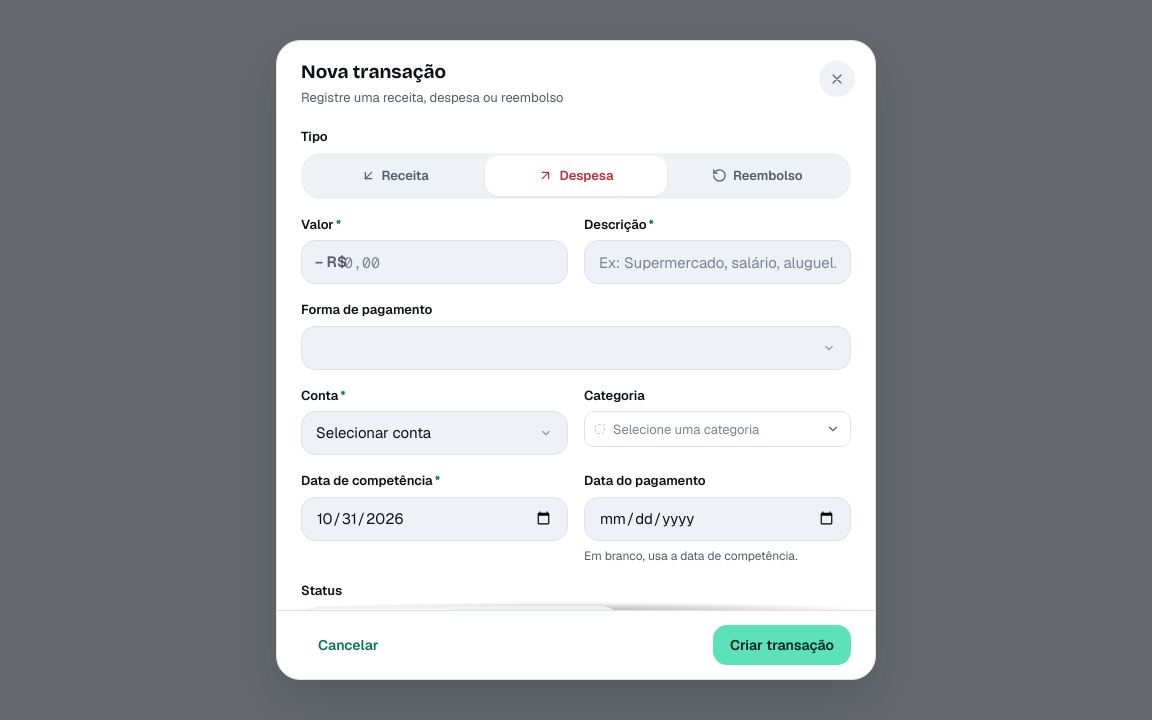
Test case: CreateTransactionDialog — padrões e validação › data futura sugere Pendente e esconde a data do pagamento
The width and height of the screenshot is (1152, 720).
Expected: the dropdown named "forma de pagamento" is enabled, [301,326,851,370]
Type "2099-01-10" into the date field labelled "Data de competência*". click: (434, 519)
box: [301,497,568,541]
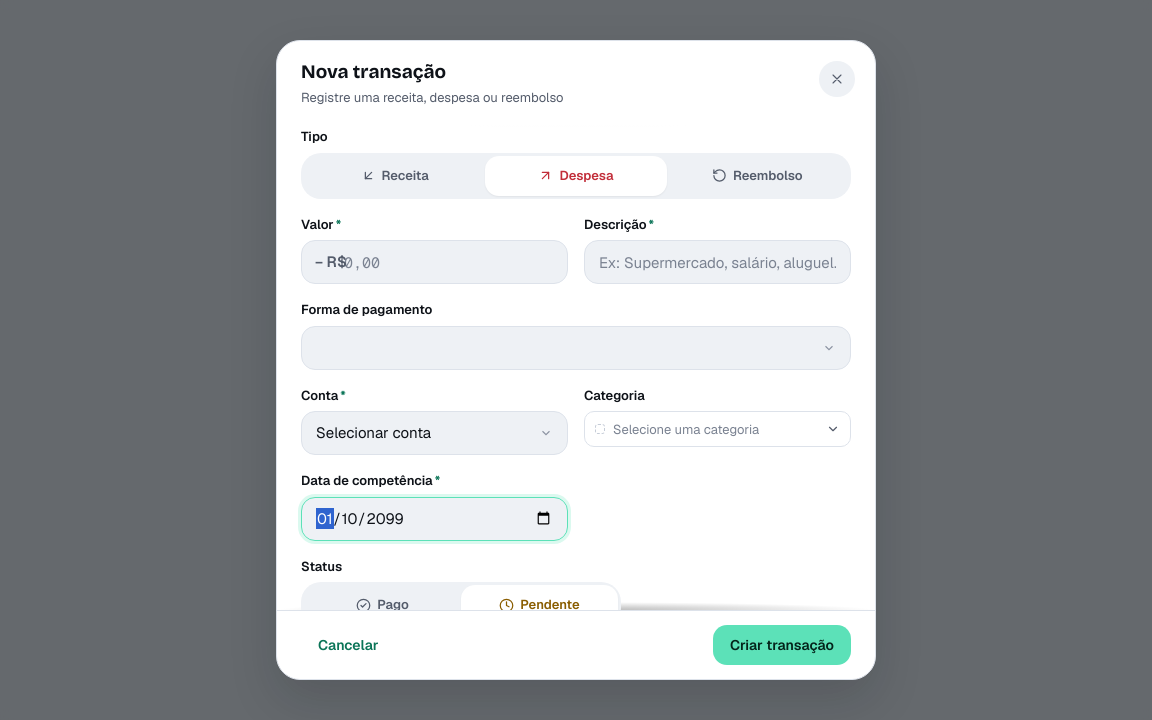
Now the radio button labelled "Pendente" is checked, box [461,585,618,610]
Now the label labelled "Data do pagamento" is gone
